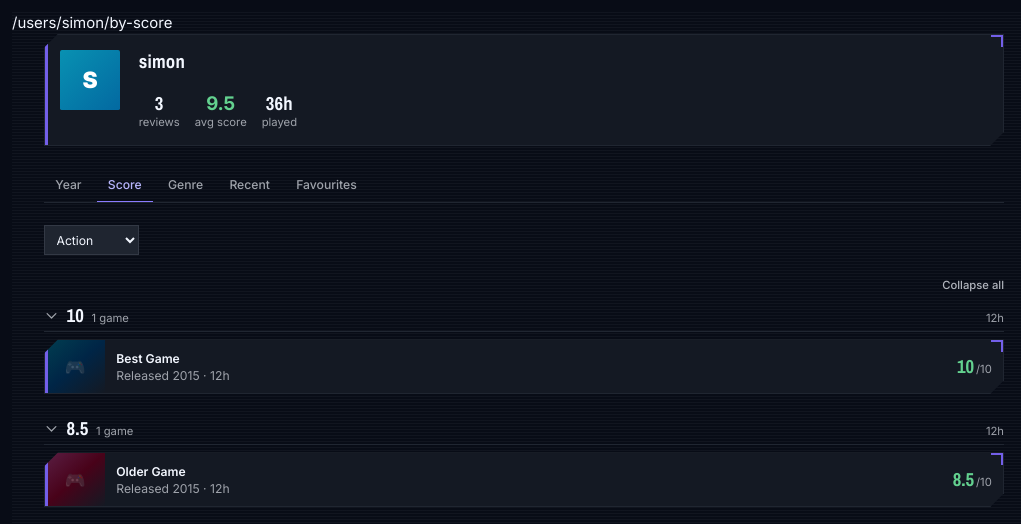
Test case: filtering a profile by genre › carries the filter to the other review tabs, not to favourites
Expected: the headings read "10", "8.5", in this order, top-left (44, 304), bottom-right (84, 327); top-left (44, 417), bottom-right (88, 440)
Click the link "Year" at (68, 184), box top-left (55, 177), bottom-right (82, 192)
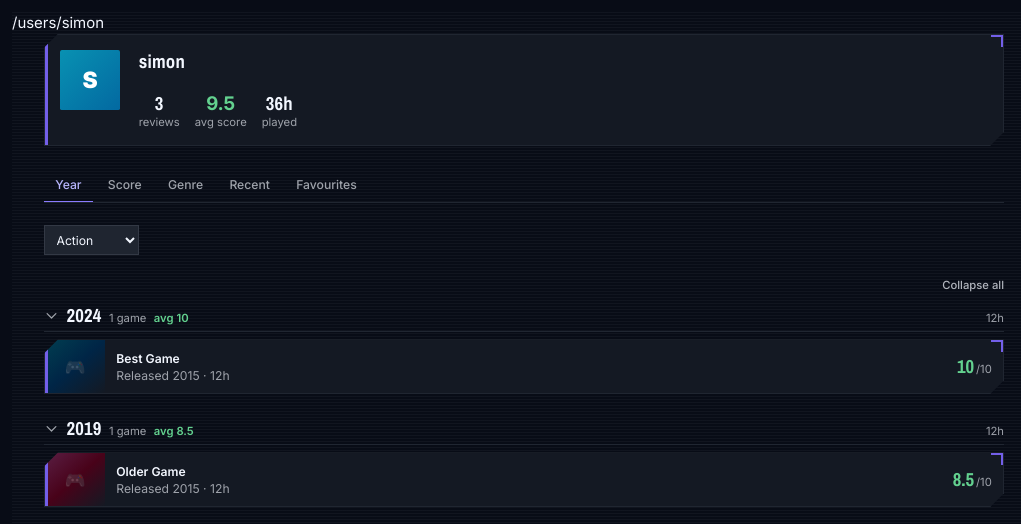
Expected: the headings read "2024", "2019", in this order, top-left (44, 304), bottom-right (102, 327); top-left (44, 417), bottom-right (102, 440)
